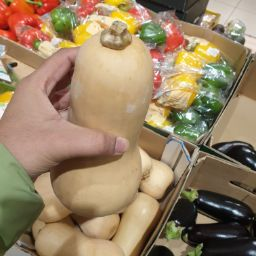Butternut Squash: (73, 16, 154, 236), (48, 203, 134, 256), (137, 145, 173, 208)
